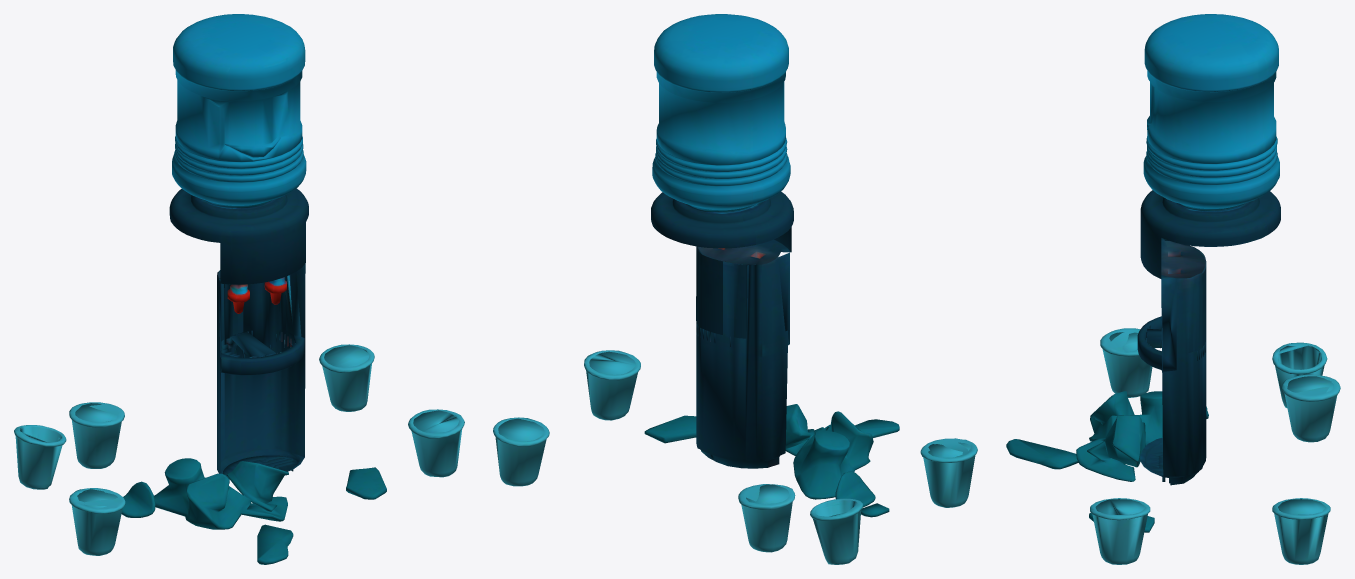
The model's file is broken_water_cooler_with_scattered_cups_aa26c38a_v4.glb.
3 renders of one model, left to right at view 1: azimuth 30°, elevation 25°; view 2: azimuth 150°, elevation 25°; view 3: azimuth 270°, elevation 25°, orthographic. The views are drawn at different scales.
Parts seen in each view (by area): view 1: material; view 2: material; view 3: material.
Boxes of the visible parts, <box> form: material: <box>14,14,464,564</box>; material: <box>493,14,977,564</box>; material: <box>1006,14,1340,564</box>.
Bounding box in the file's own units: 1.71 × 1.9 × 1.27.
Materials: 1 (1 with a texture image).
